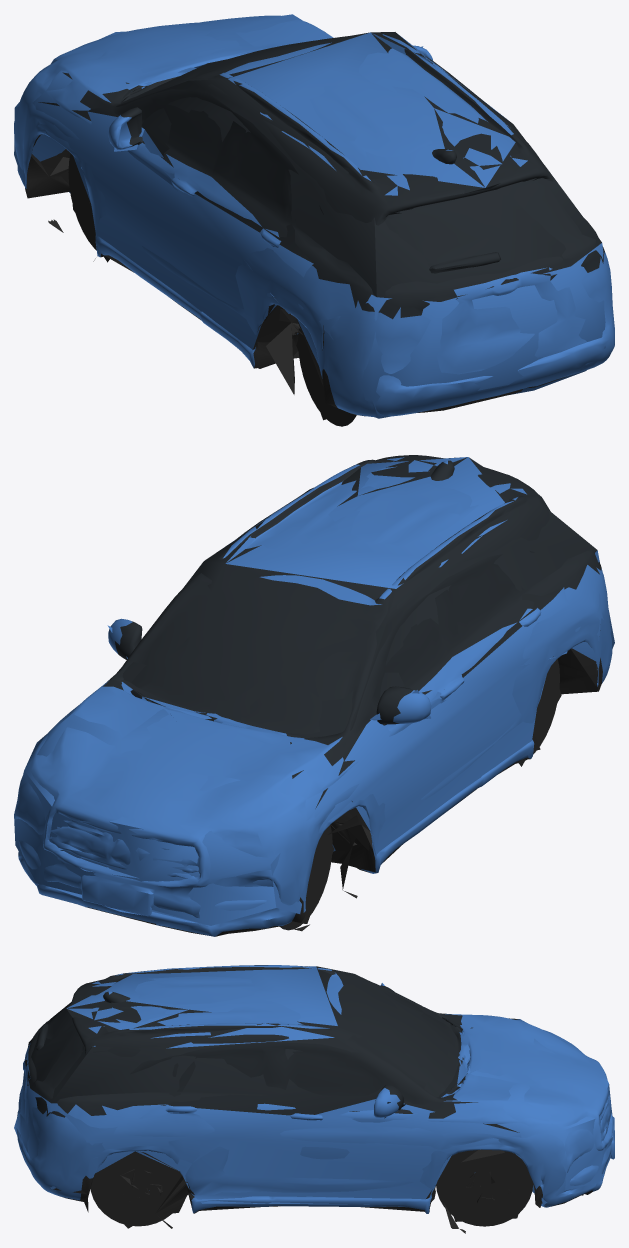
Rendered from infiniti-qx50.glb.
3 renders of one model, top to bottom at view 1: azimuth 30°, elevation 25°; view 2: azimuth 150°, elevation 25°; view 3: azimuth 270°, elevation 25°, orthographic. The views are drawn at different scales.
Visible parts, largest first — view 1: body, far; view 2: body, far; view 3: body, far.
Boxes of the visible parts, box(x1,y1,x2,y2) form: body: box(14, 15, 614, 426); far: box(14, 14, 605, 420); body: box(14, 455, 612, 936); far: box(14, 457, 614, 925); body: box(16, 965, 614, 1233); far: box(14, 966, 612, 1228).
Bounding box in the file's own units: 2.23 × 1.76 × 4.79.
